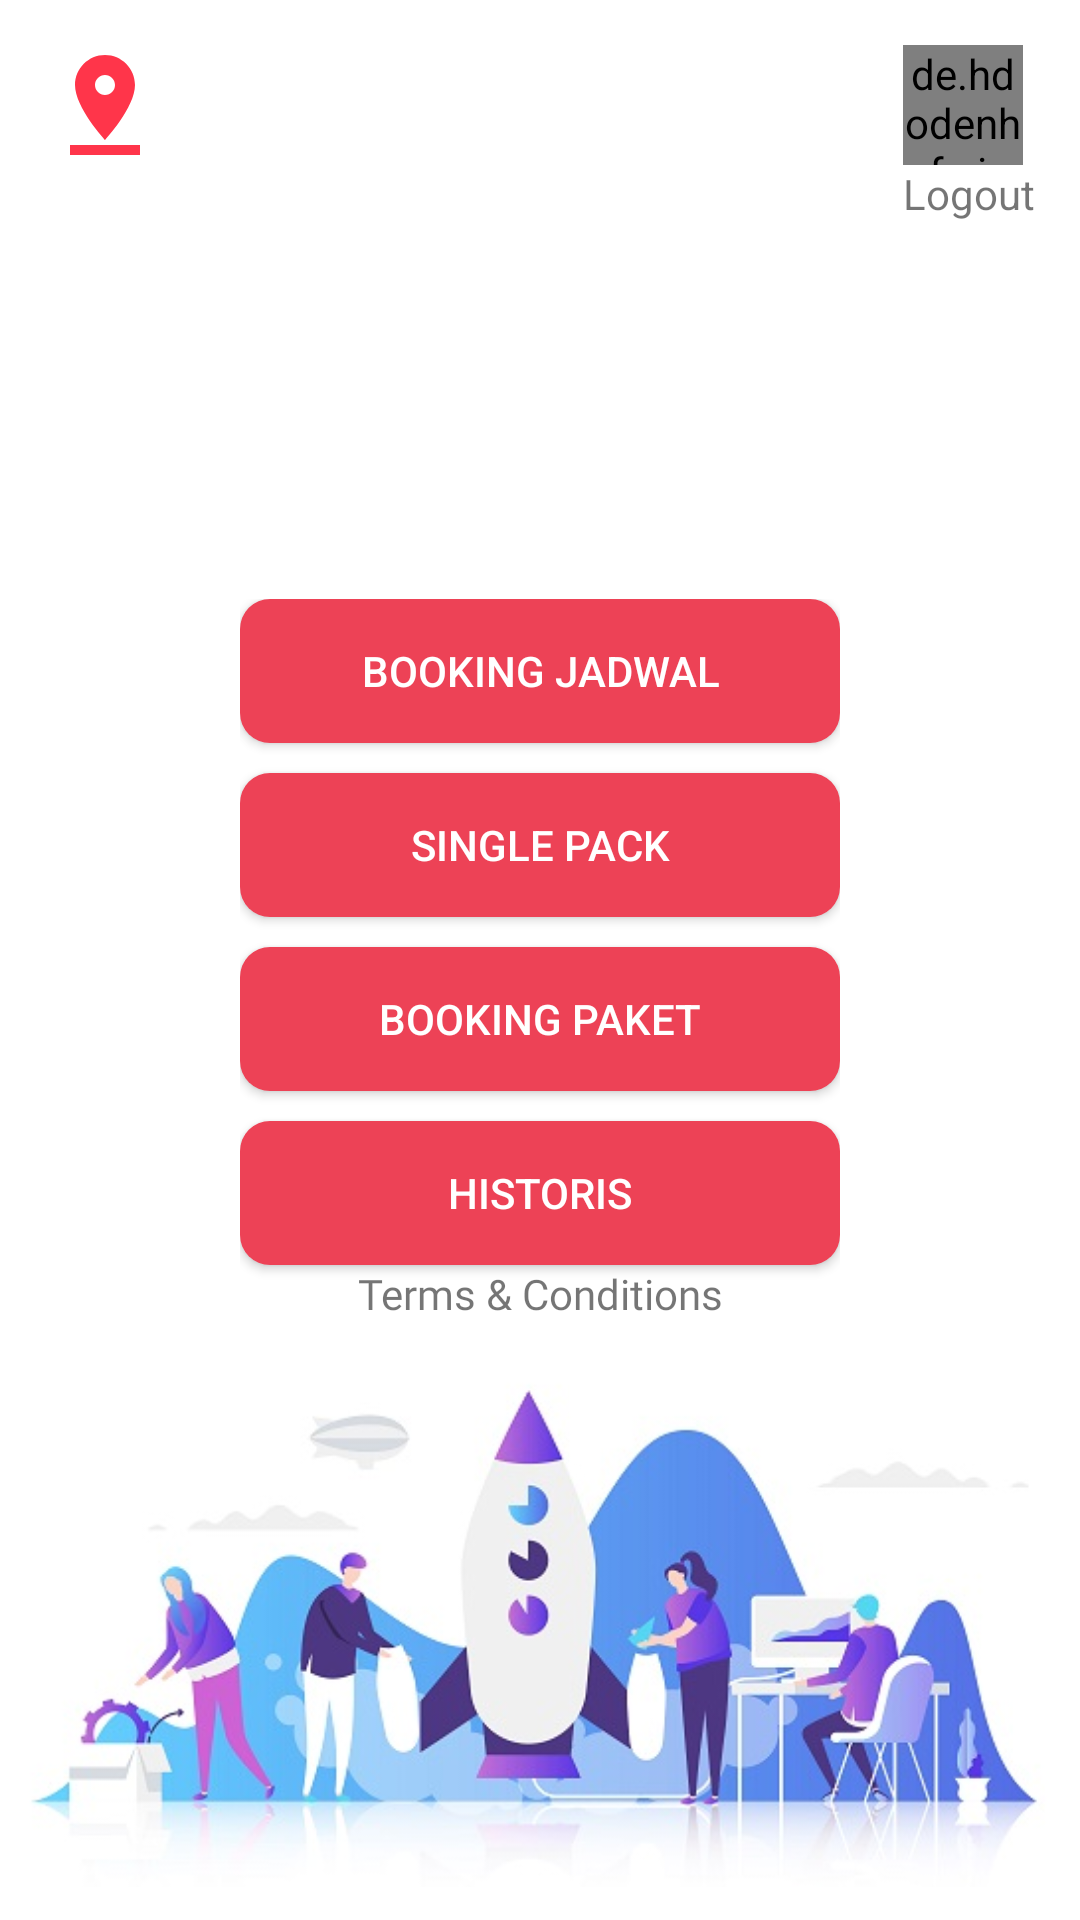

Icon click points for this 1080 × 1920 phone screenshot, format (x=x, y=y):
pin drop: (x=105, y=105)
